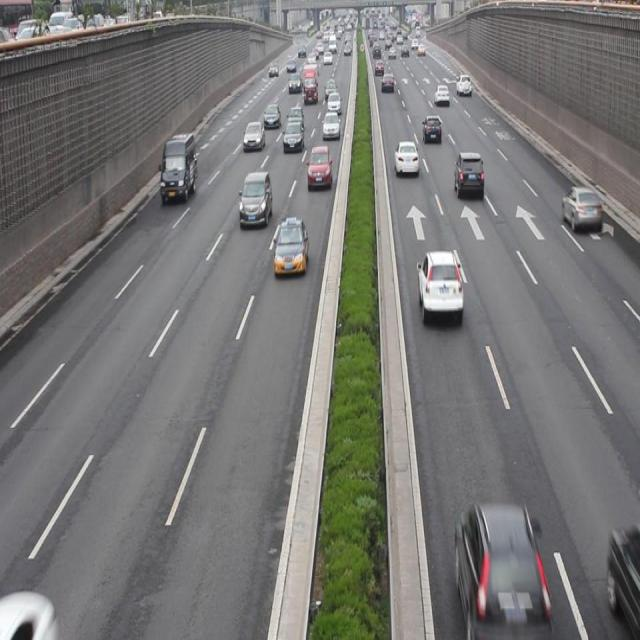car: (451, 500, 547, 640), (416, 249, 463, 318), (273, 218, 308, 275), (561, 186, 602, 232), (453, 150, 484, 196), (307, 145, 331, 188), (394, 139, 418, 175), (243, 120, 266, 150), (283, 120, 303, 154), (421, 114, 442, 143), (322, 110, 339, 139), (263, 102, 280, 128), (286, 104, 304, 128)
truck: (159, 132, 197, 203), (238, 170, 271, 228)
